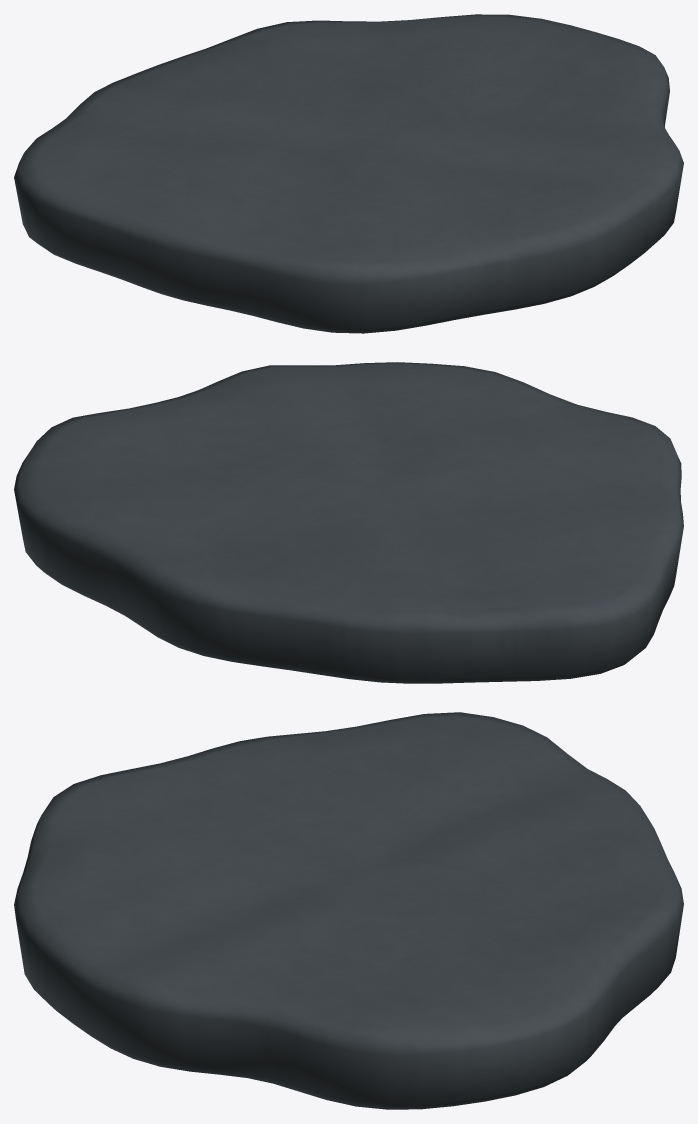
Rendered from SteppingStone_01.fbx.
3 renders of one model, top to bottom at view 1: azimuth 30°, elevation 25°; view 2: azimuth 150°, elevation 25°; view 3: azimuth 270°, elevation 25°, orthographic. The views are drawn at different scales.
Parts seen in each view (by area): view 1: SteppingStone_01; view 2: SteppingStone_01; view 3: SteppingStone_01.
Part boxes in pixels (left/top/right/bottom): SteppingStone_01: left=14, top=14, right=683, bottom=333; SteppingStone_01: left=14, top=362, right=683, bottom=683; SteppingStone_01: left=14, top=712, right=683, bottom=1109.
Bounding box in the file's own units: 0.45 × 0.0503 × 0.38.
1 material, 1 textured.
